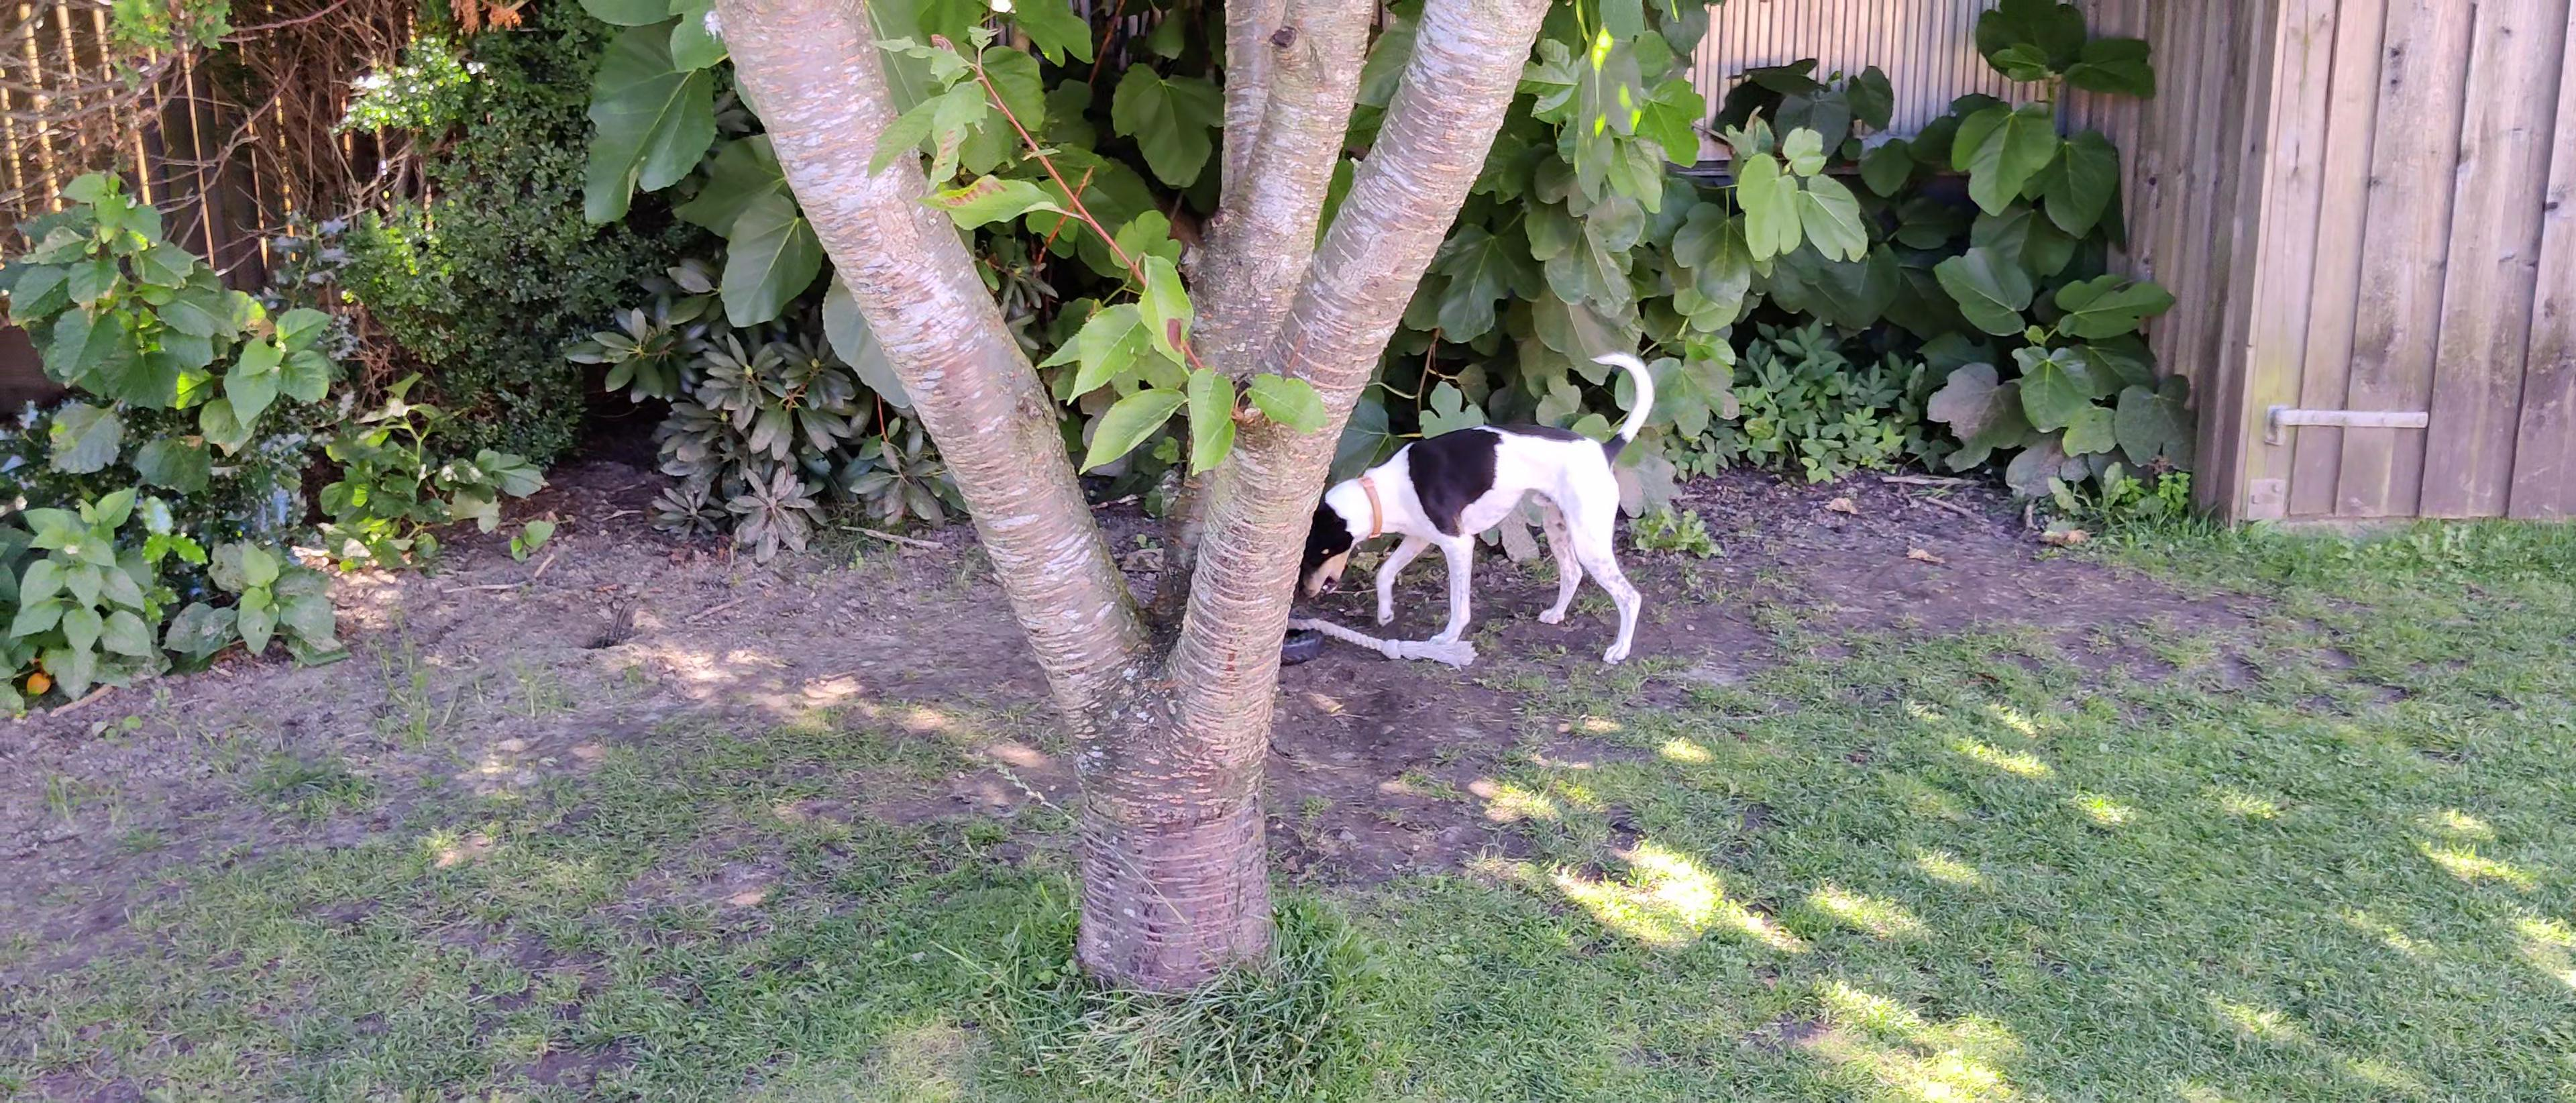Dog: (1298, 348, 1658, 666)
